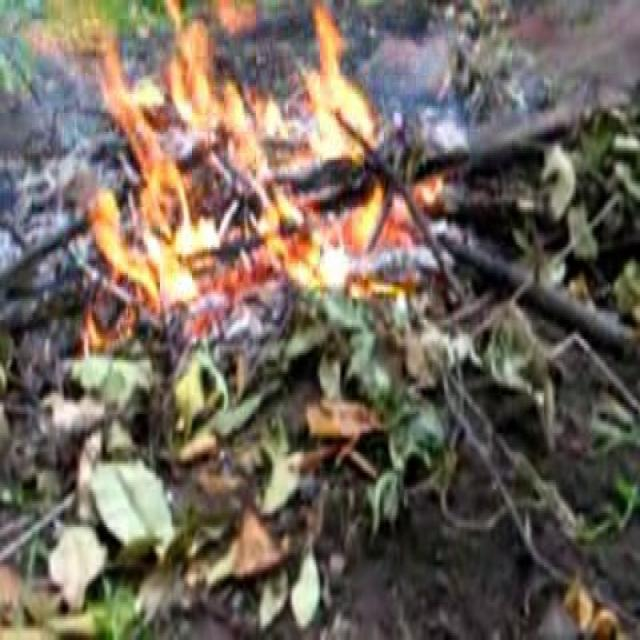Fire: (78, 35, 413, 297)
